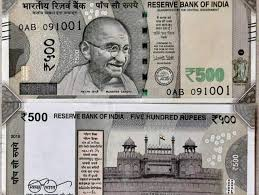fiveHundred: (15, 14, 235, 86)
